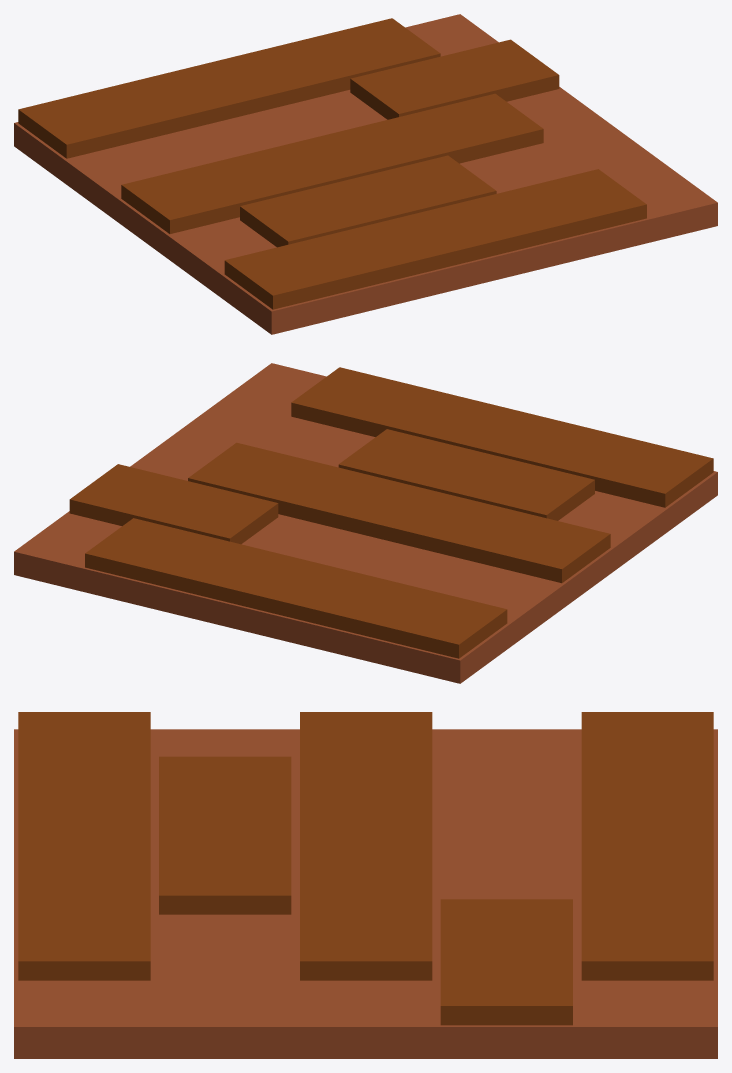
File: Prop_Tile_Terrain_Dungeon_Timber_Panel_09.FBX
The picture shows the model from 3 angles, top to bottom: view 1: azimuth 30°, elevation 25°; view 2: azimuth 150°, elevation 25°; view 3: azimuth 270°, elevation 25°; orthographic projection. The views are drawn at different scales.
Parts seen in each view (by area): view 1: Prop_Tile_Terrain_Dungeon_Timber_Panel_09; view 2: Prop_Tile_Terrain_Dungeon_Timber_Panel_09; view 3: Prop_Tile_Terrain_Dungeon_Timber_Panel_09.
Part boxes in pixels (x1=…): Prop_Tile_Terrain_Dungeon_Timber_Panel_09: x1=14, y1=14, x2=717, y2=334; Prop_Tile_Terrain_Dungeon_Timber_Panel_09: x1=14, y1=363, x2=717, y2=683; Prop_Tile_Terrain_Dungeon_Timber_Panel_09: x1=14, y1=712, x2=717, y2=1058.
Size of the model in its own units: 3000 by 240 by 3000.
